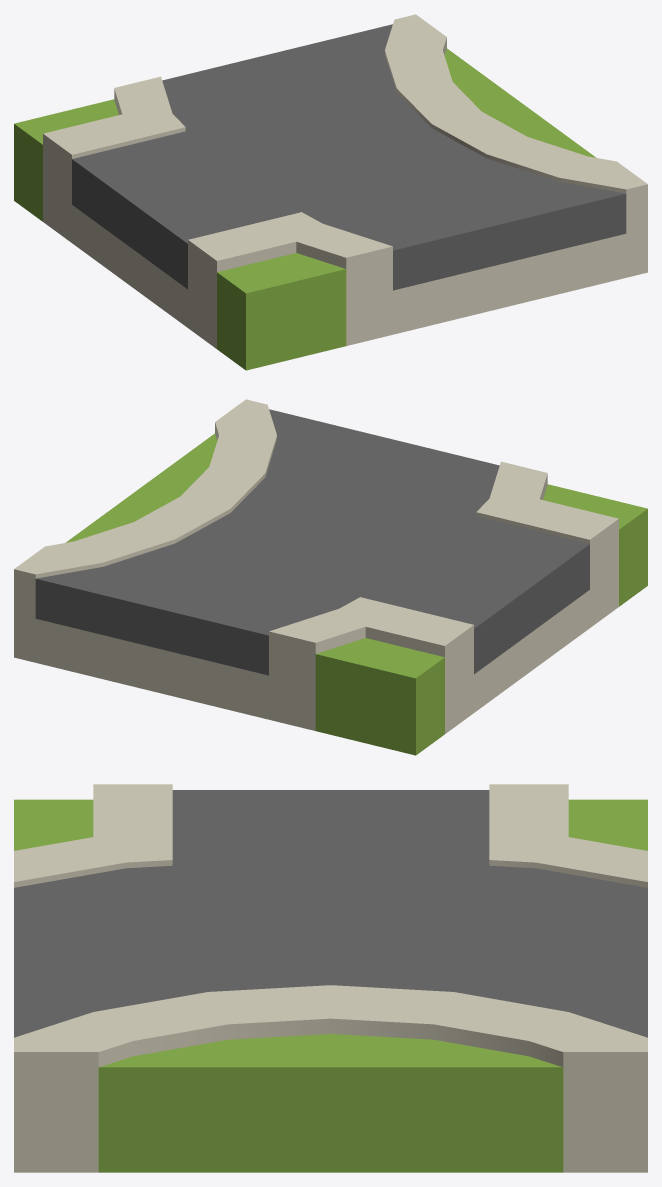
File: road-three-way-curve-sidewalk-grass.obj
The picture shows the model from 3 angles, top to bottom: view 1: azimuth 30°, elevation 25°; view 2: azimuth 150°, elevation 25°; view 3: azimuth 270°, elevation 25°; orthographic projection. The views are drawn at different scales.
Parts seen in each view (by area): view 1: Mesh1_Group1_Model.042; view 2: Mesh1_Group1_Model.042; view 3: Mesh1_Group1_Model.042.
Boxes of the visible parts, x1=… form: Mesh1_Group1_Model.042: x1=14, y1=14, x2=647, y2=370; Mesh1_Group1_Model.042: x1=14, y1=399, x2=647, y2=755; Mesh1_Group1_Model.042: x1=14, y1=784, x2=647, y2=1172.
Size of the model in its own units: 3 by 0.63 by 3.
